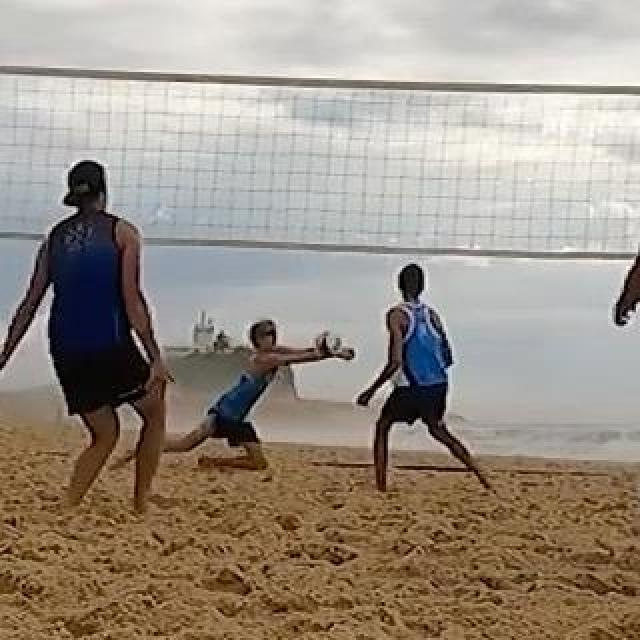volleyball: (314, 330, 344, 360)
